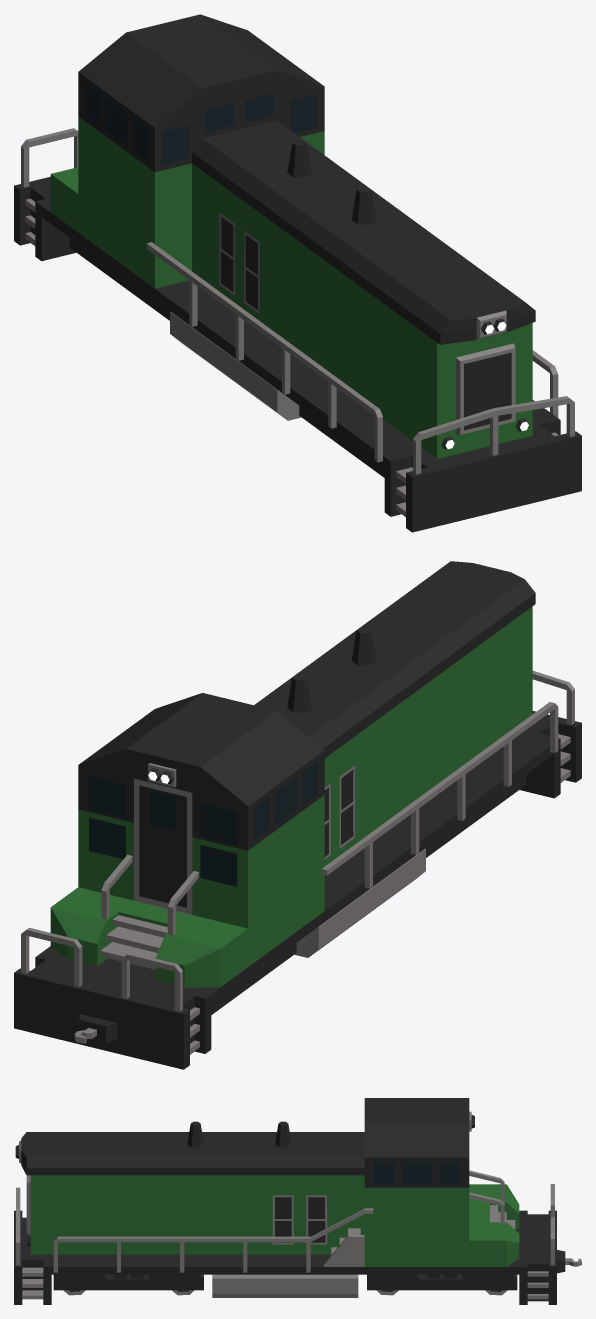
Rendered from train-freight-short.glb.
3 renders of one model, top to bottom at view 1: azimuth 30°, elevation 25°; view 2: azimuth 150°, elevation 25°; view 3: azimuth 270°, elevation 25°, orthographic. The views are drawn at different scales.
Visible parts, largest first — view 1: train-freight-short-base, train-freight-short-wheel-frame_B, train-freight-short-wheel-frame_F; view 2: train-freight-short-base, train-freight-short-wheel-frame_F, train-freight-short-wheel-frame_B; view 3: train-freight-short-base, train-freight-short-wheel-frame_F, train-freight-short-wheel-frame_B.
Part boxes in pixels (x1=…): train-freight-short-base: x1=14, y1=14, x2=581, y2=532; train-freight-short-wheel-frame_B: x1=69, y1=238, x2=170, y2=320; train-freight-short-wheel-frame_F: x1=299, y1=406, x2=384, y2=477; train-freight-short-base: x1=14, y1=561, x2=581, y2=1069; train-freight-short-wheel-frame_F: x1=425, y1=775, x2=526, y2=857; train-freight-short-wheel-frame_B: x1=211, y1=943, x2=296, y2=1014; train-freight-short-base: x1=14, y1=1098, x2=581, y2=1304; train-freight-short-wheel-frame_F: x1=53, y1=1274, x2=203, y2=1290; train-freight-short-wheel-frame_B: x1=367, y1=1274, x2=517, y2=1290.
Bounding box in the file's own units: 3.4 × 4.55 × 13.6.
1 material, 1 textured.
